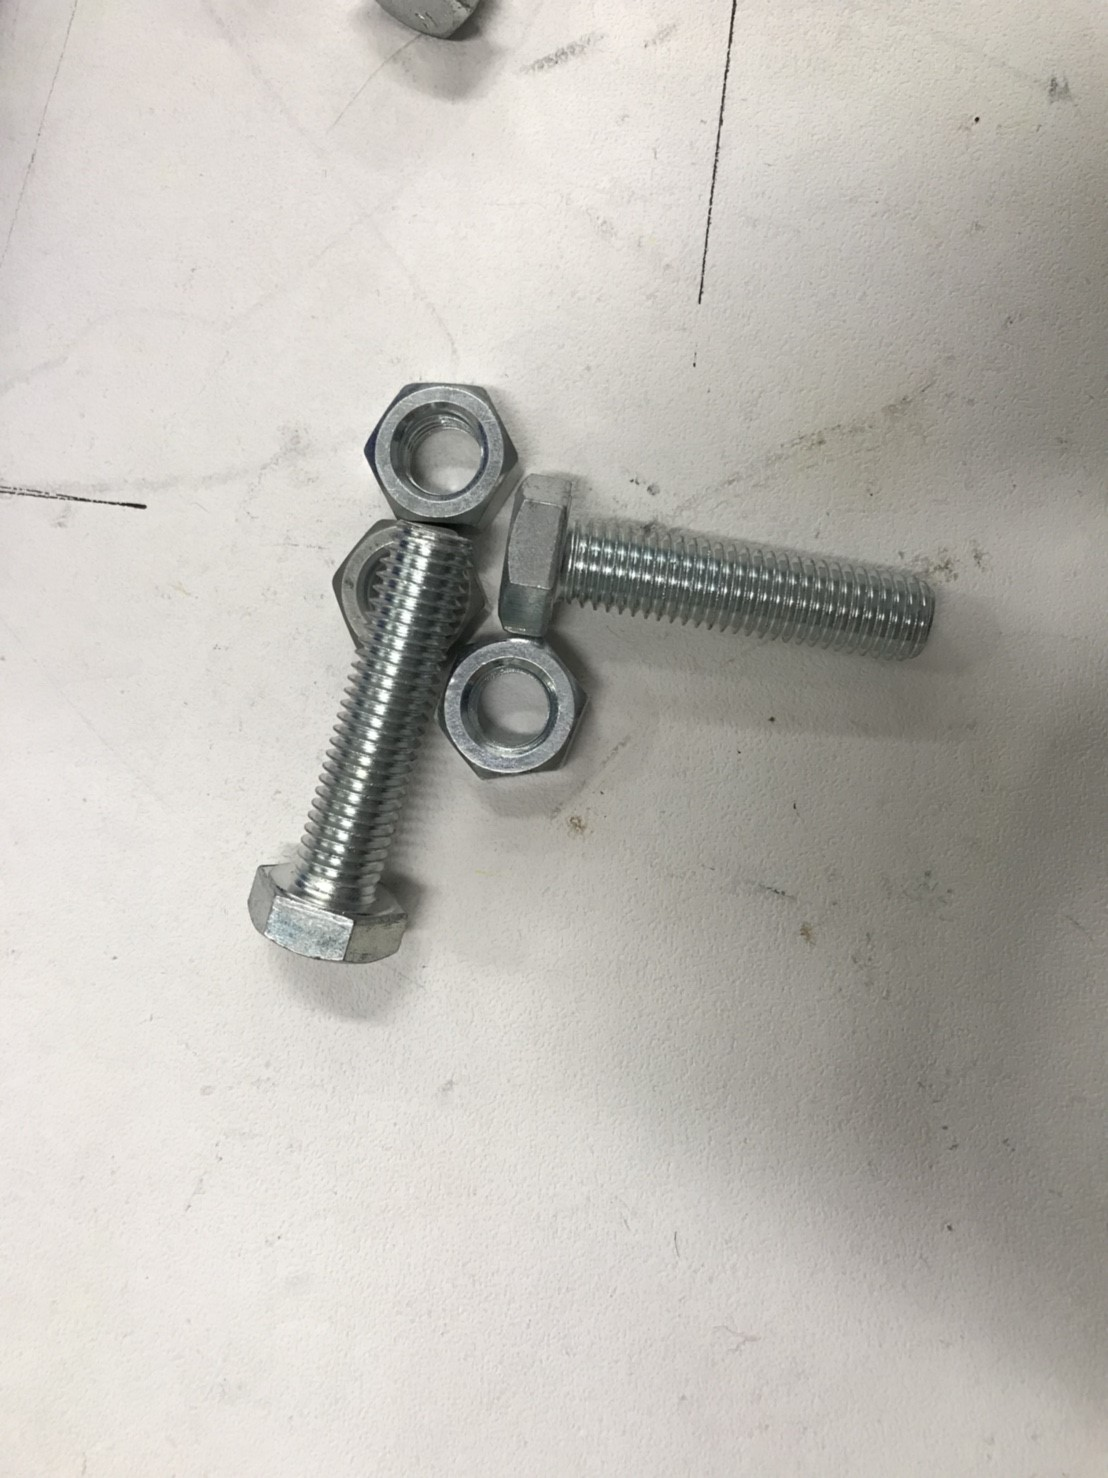nut: (429, 617, 610, 789), (361, 378, 537, 530), (331, 516, 493, 658)
screw: (246, 525, 483, 995), (506, 470, 961, 670)
